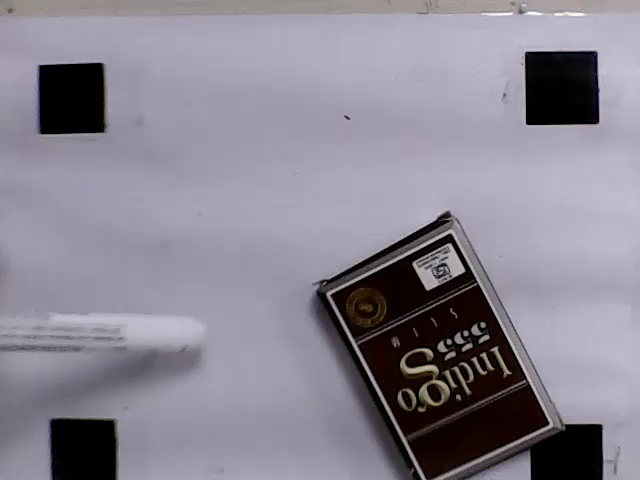BEX: (329, 232, 552, 478)
